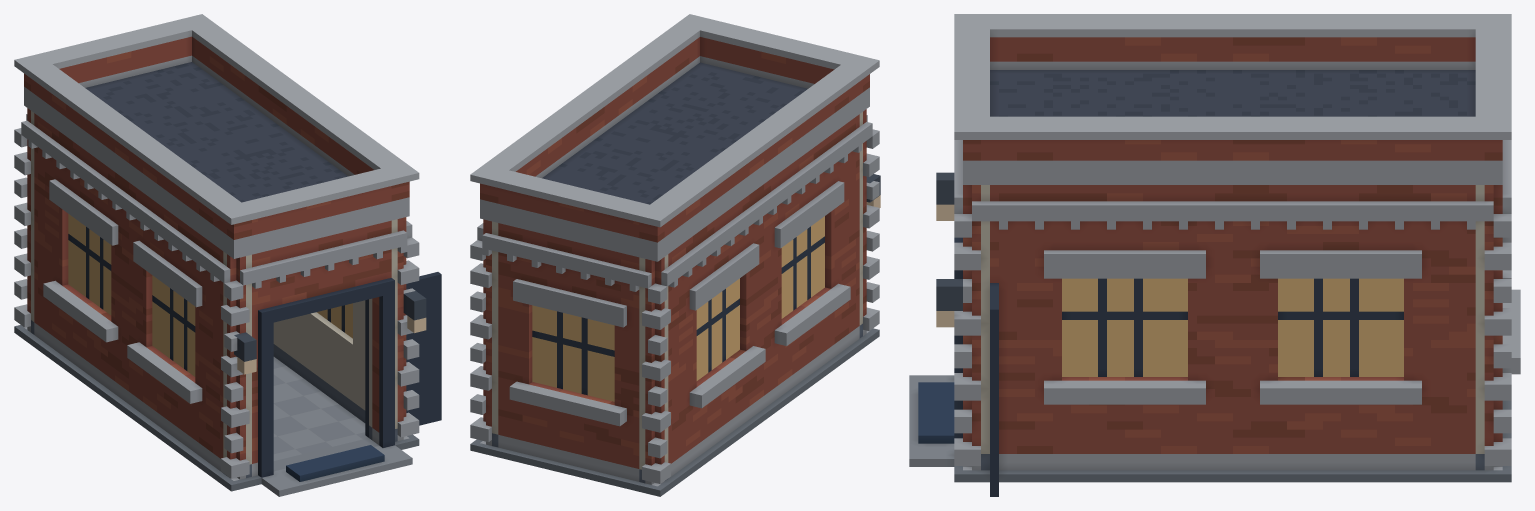
Rendered from control_e2_l2.glb.
3 renders of one model, left to right at view 1: azimuth 30°, elevation 25°; view 2: azimuth 150°, elevation 25°; view 3: azimuth 270°, elevation 25°, orthographic. The views are drawn at different scales.
Parts seen in each view (by area): view 1: CutRoof, Base, CutNX, CutPZ, CutNZ, CutPX; view 2: CutRoof, CutNX, CutNZ, Base, CutPZ; view 3: CutPX, CutRoof, Base, CutPZ, CutNZ.
Part boxes in pixels (x1,y1,x2,y2): CutRoof: [14, 14, 419, 258]; Base: [14, 275, 441, 496]; CutNX: [21, 113, 230, 414]; CutPZ: [221, 217, 441, 427]; CutNZ: [14, 108, 34, 277]; CutPX: [298, 221, 412, 365]; CutRoof: [470, 14, 879, 261]; CutNX: [661, 114, 872, 418]; CutNZ: [470, 219, 670, 432]; Base: [470, 278, 879, 496]; CutPZ: [859, 109, 880, 280]; CutPX: [972, 185, 1493, 404]; CutRoof: [954, 14, 1511, 184]; Base: [909, 375, 1511, 496]; CutPZ: [936, 140, 998, 423]; CutNZ: [1475, 140, 1520, 400].
Bounding box in the file's own units: 3.8 × 4.3 × 6.8.
